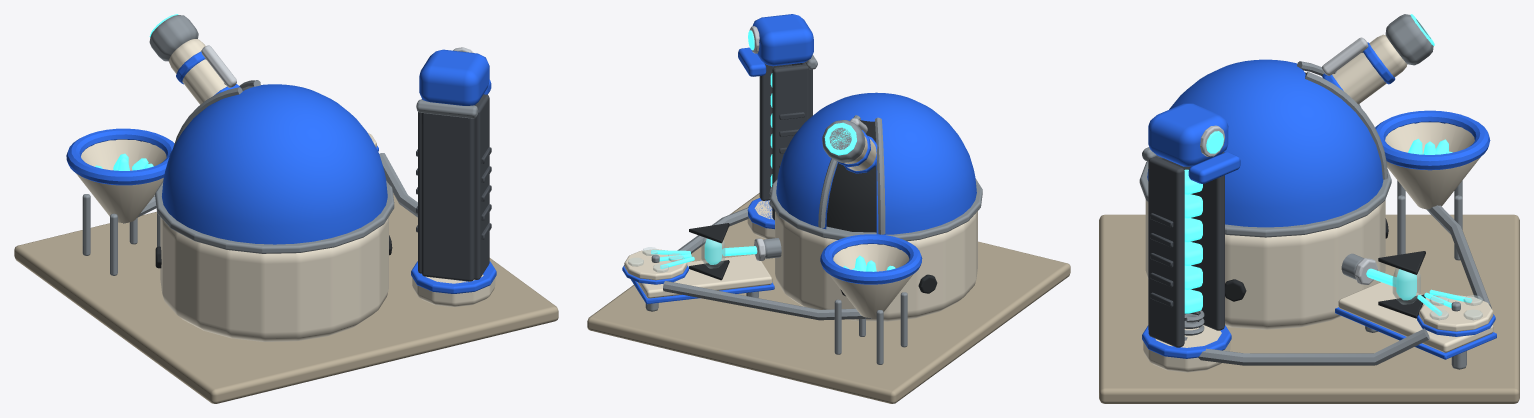
Rendered from optics_lab.glb.
3 renders of one model, left to right at view 1: azimuth 30°, elevation 25°; view 2: azimuth 150°, elevation 25°; view 3: azimuth 270°, elevation 25°, orthographic. The views are drawn at different scales.
Visible parts, largest first — view 1: stage_0__M_SugarPad, head__M_Team, stage_2__M_CreamPlastic, stage_2__M_SmokePlastic, cap__M_Team, stage_2__M_Team, stage_2__M_SpringSteel, stage_1__M_SpringSteel, scope__M_CreamPlastic, scope__M_SpringSteel, stage_1__M_CreamPlastic, stage_1__M_Team (+3 smaller); view 2: stage_0__M_SugarPad, head__M_Team, stage_2__M_CreamPlastic, stage_2__M_SmokePlastic, stage_1__M_SpringSteel, cap__M_Team, head__M_Dark, stage_1__M_CreamPlastic, stage_2__M_Team, stage_2__M_SpringSteel, head__M_SpringSteel, lathe__M_CreamPlastic (+8 smaller); view 3: stage_0__M_SugarPad, head__M_Team, stage_2__M_CreamPlastic, stage_2__M_SmokePlastic, stage_1__M_SpringSteel, stage_1__M_CreamPlastic, cap__M_Team, stage_2__M_Team, stage_2__M_SpringSteel, scope__M_CreamPlastic, stage_1__M_Team, stack__M_E_Cyan (+13 smaller).
Part boxes in pixels (left/top/right/bottom): stage_0__M_SugarPad: left=14, top=193, right=558, bottom=403; head__M_Team: left=162, top=84, right=387, bottom=244; stage_2__M_CreamPlastic: left=76, top=139, right=388, bottom=341; stage_2__M_SmokePlastic: left=416, top=94, right=491, bottom=281; cap__M_Team: left=419, top=49, right=491, bottom=105; stage_2__M_Team: left=66, top=128, right=174, bottom=185; stage_2__M_SpringSteel: left=155, top=181, right=394, bottom=253; stage_1__M_SpringSteel: left=82, top=153, right=417, bottom=275; scope__M_CreamPlastic: left=169, top=39, right=226, bottom=104; scope__M_SpringSteel: left=149, top=15, right=225, bottom=84; stage_1__M_CreamPlastic: left=412, top=274, right=495, bottom=307; stage_1__M_Team: left=411, top=261, right=496, bottom=293; stage_0__M_SugarPad: left=587, top=193, right=1070, bottom=403; head__M_Team: left=776, top=92, right=976, bottom=234; stage_2__M_CreamPlastic: left=775, top=211, right=977, bottom=321; stage_2__M_SmokePlastic: left=759, top=62, right=812, bottom=220; stage_1__M_SpringSteel: left=645, top=188, right=907, bottom=364; cap__M_Team: left=738, top=14, right=813, bottom=76; head__M_Dark: left=826, top=120, right=876, bottom=232; stage_1__M_CreamPlastic: left=637, top=200, right=774, bottom=298; stage_2__M_Team: left=820, top=234, right=922, bottom=284; stage_2__M_SpringSteel: left=763, top=179, right=982, bottom=258; head__M_SpringSteel: left=818, top=115, right=885, bottom=234; lathe__M_CreamPlastic: left=624, top=249, right=687, bottom=280; stage_0__M_SugarPad: left=1099, top=214, right=1519, bottom=403; head__M_Team: left=1147, top=59, right=1383, bottom=227; stage_2__M_CreamPlastic: left=1145, top=122, right=1480, bottom=329; stage_2__M_SmokePlastic: left=1148, top=152, right=1224, bottom=347; stage_1__M_SpringSteel: left=1184, top=180, right=1491, bottom=369; stage_1__M_CreamPlastic: left=1143, top=282, right=1493, bottom=372; cap__M_Team: left=1148, top=103, right=1240, bottom=183; stage_2__M_Team: left=1375, top=110, right=1490, bottom=170; stage_2__M_SpringSteel: left=1139, top=161, right=1391, bottom=279; scope__M_CreamPlastic: left=1332, top=34, right=1407, bottom=104; stage_1__M_Team: left=1142, top=307, right=1496, bottom=359; stack__M_E_Cyan: left=1184, top=194, right=1202, bottom=313.
Bounding box in the file's own units: 1.92 × 1.35 × 1.92.
